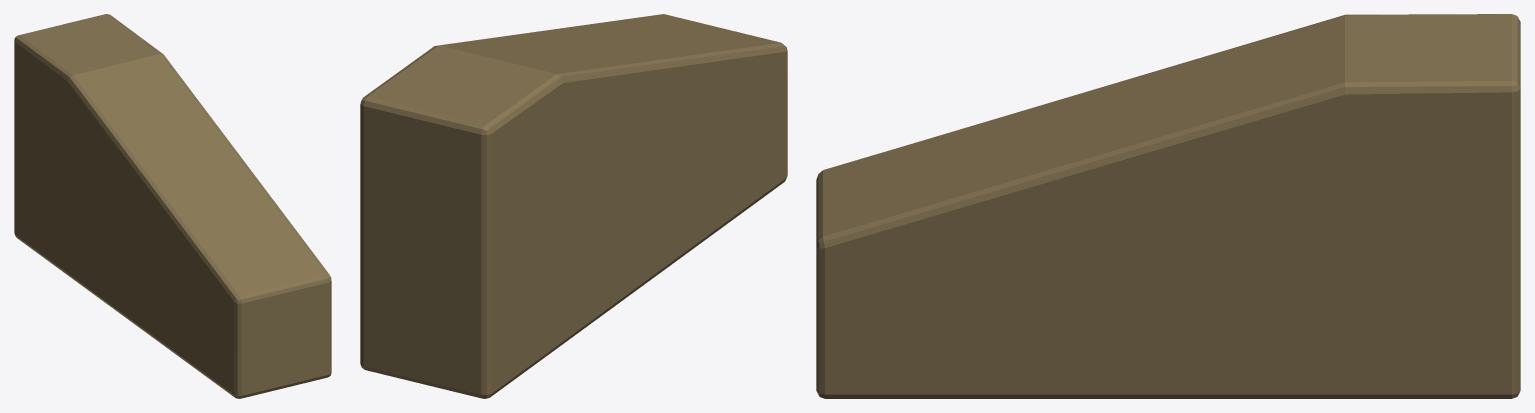
Rendered from SM_Platform_1m_04_B_Ramp.fbx.
The picture shows the model from 3 angles, left to right: view 1: azimuth 30°, elevation 25°; view 2: azimuth 150°, elevation 25°; view 3: azimuth 270°, elevation 25°; orthographic projection. The views are drawn at different scales.
Visible parts, largest first — view 1: polySurface76; view 2: polySurface76; view 3: polySurface76.
Boxes of the visible parts, <box> form: polySurface76: <box>14,14,331,398</box>; polySurface76: <box>360,14,787,398</box>; polySurface76: <box>816,14,1520,398</box>.
Bounding box in the file's own units: 100 × 200 × 401.
